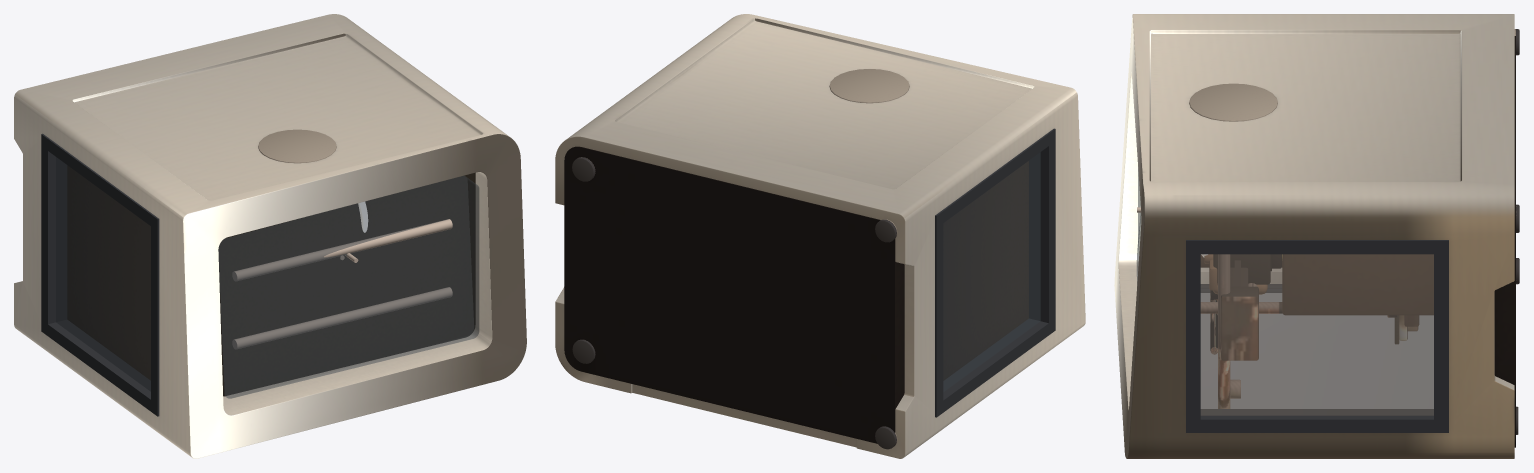
File: deltrol_p2s_photoreal_v2_gantry_cluster.glb
3 renders of one model, left to right at view 1: azimuth 30°, elevation 25°; view 2: azimuth 150°, elevation 25°; view 3: azimuth 270°, elevation 25°, orthographic. The views are drawn at different scales.
Parts seen in each view (by area): view 1: unibody_shell, top_roof_glass, interior_ceiling_liner, left_glass_window, interior_left_back_baffle, left_window_gasket, pv2_cluster_m50, pv2_cluster_m49, rear_exhaust_shroud; view 2: unibody_shell, chassis_recessed_plinth, left_glass_window, interior_left_back_baffle, left_window_gasket, rear_exhaust_shroud; view 3: unibody_shell, right_glass_window, right_glass_sheen, front_glass_door, right_window_gasket, interior_rear_electronics_box, x_gantry_crossbeam, chassis_recessed_plinth, rear_exhaust_shroud, x_guide_front, toolhead_chassis.
Part boxes in pixels (x1=…): unibody_shell: x1=14, y1=14, x2=526, y2=458; top_roof_glass: x1=218, y1=176, x2=479, y2=398; interior_ceiling_liner: x1=218, y1=172, x2=475, y2=396; left_glass_window: x1=56, y1=157, x2=150, y2=391; interior_left_back_baffle: x1=67, y1=165, x2=150, y2=380; left_window_gasket: x1=41, y1=133, x2=159, y2=416; pv2_cluster_m50: x1=232, y1=219, x2=452, y2=281; pv2_cluster_m49: x1=232, y1=287, x2=452, y2=349; rear_exhaust_shroud: x1=258, y1=129, x2=336, y2=163; unibody_shell: x1=555, y1=14, x2=1085, y2=458; chassis_recessed_plinth: x1=564, y1=146, x2=904, y2=443; left_glass_window: x1=943, y1=152, x2=1040, y2=391; interior_left_back_baffle: x1=943, y1=161, x2=1028, y2=380; left_window_gasket: x1=935, y1=128, x2=1055, y2=417; rear_exhaust_shroud: x1=829, y1=69, x2=909, y2=103; unibody_shell: x1=1114, y1=14, x2=1514, y2=458; right_glass_window: x1=1201, y1=254, x2=1433, y2=414; right_glass_sheen: x1=1201, y1=255, x2=1433, y2=414; front_glass_door: x1=1201, y1=289, x2=1433, y2=408; right_window_gasket: x1=1186, y1=240, x2=1448, y2=432; interior_rear_electronics_box: x1=1201, y1=254, x2=1433, y2=314; x_gantry_crossbeam: x1=1221, y1=260, x2=1258, y2=360; chassis_recessed_plinth: x1=1494, y1=36, x2=1515, y2=447; rear_exhaust_shroud: x1=1189, y1=83, x2=1277, y2=121; x_guide_front: x1=1201, y1=254, x2=1397, y2=408; toolhead_chassis: x1=1213, y1=254, x2=1270, y2=284.
Size of the model in its own units: 0.426 by 0.2955 by 0.3818.
19 materials, 14 textured.
